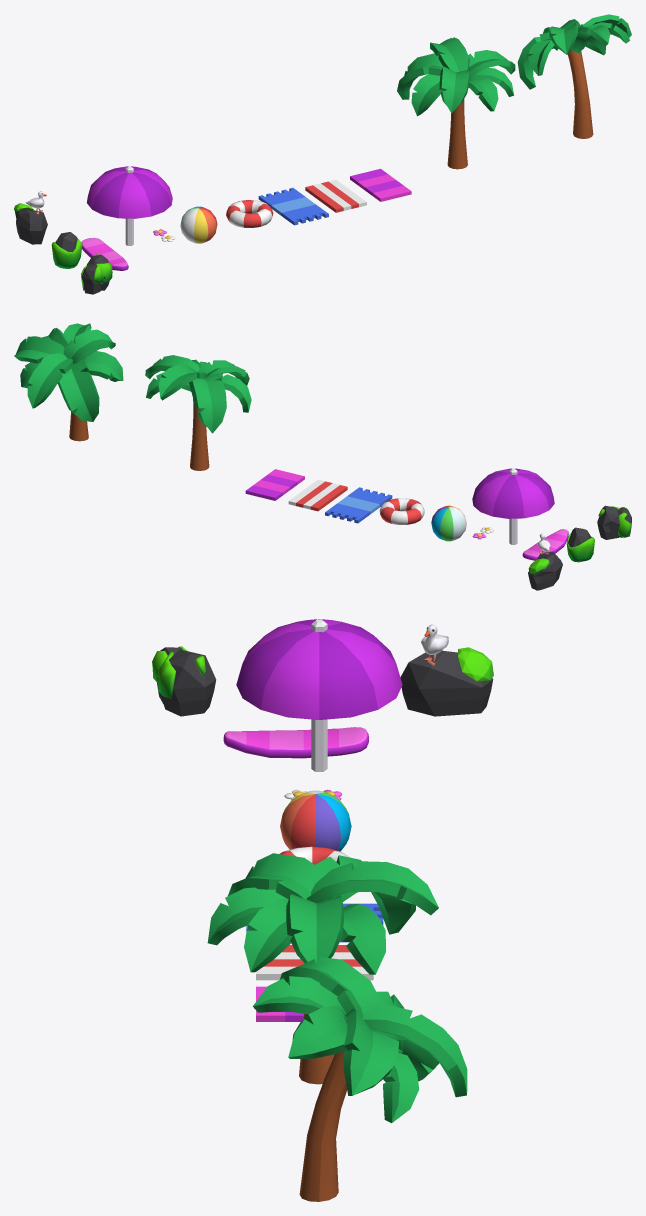
The model's file is BeachMeshLibrary.fbx.
The picture shows the model from 3 angles, top to bottom: view 1: azimuth 30°, elevation 25°; view 2: azimuth 150°, elevation 25°; view 3: azimuth 270°, elevation 25°; orthographic projection. The views are drawn at different scales.
Parts seen in each view (by area): view 1: PalmTree02, PalmTree01, Umbrella, Towel1, Rock03.001, Towel2, Towel3, BeachBall, LifeRing, Rock01.001, Rock02.001, SurfBoard01.001; view 2: PalmTree01, PalmTree02, Umbrella, Towel1, Rock03.001, Towel3, Towel2, Rock01.001, BeachBall, LifeRing, Rock02.001, SurfBoard01.001; view 3: PalmTree01, PalmTree02, Umbrella, Rock03.001, Rock01.001, BeachBall, SurfBoard01.001, Towel2.
Boxes of the visible parts, box(x1,y1,x2,y2) form: PalmTree02: box(397, 37, 515, 169); PalmTree01: box(517, 14, 631, 138); Umbrella: box(87, 166, 172, 245); Towel1: box(258, 187, 328, 225); Rock03.001: box(14, 191, 47, 244); Towel2: box(305, 179, 366, 212); Towel3: box(350, 168, 411, 201); BeachBall: box(180, 206, 217, 243); LifeRing: box(226, 200, 273, 227); Rock01.001: box(81, 254, 112, 294); Rock02.001: box(51, 232, 82, 268); SurfBoard01.001: box(81, 238, 128, 270); PalmTree01: box(14, 323, 123, 441); PalmTree02: box(145, 355, 251, 470); Umbrella: box(472, 468, 554, 544); Towel1: box(325, 487, 392, 523); Rock03.001: box(528, 533, 562, 590); Towel3: box(245, 469, 304, 500); Towel2: box(288, 479, 347, 511); Rock01.001: box(597, 505, 631, 539); BeachBall: box(431, 505, 466, 541); LifeRing: box(379, 498, 424, 524); Rock02.001: box(566, 527, 594, 562); SurfBoard01.001: box(522, 529, 568, 560); PalmTree01: box(253, 957, 467, 1201); PalmTree02: box(207, 853, 438, 1084); Umbrella: box(236, 619, 402, 771); Rock03.001: box(400, 624, 493, 716); Rock01.001: box(152, 646, 216, 716); BeachBall: box(280, 790, 351, 851); SurfBoard01.001: box(223, 727, 368, 758); Towel2: box(256, 945, 373, 980).
Bounding box in the file's own units: 9834 × 1989 × 2547.
